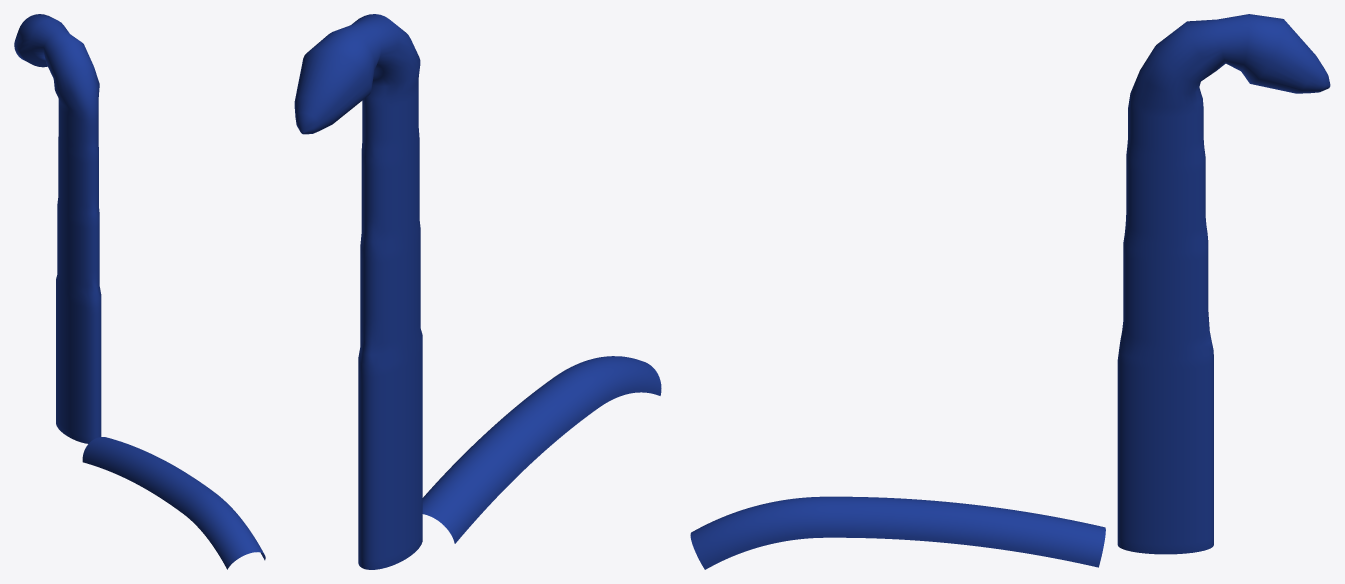
Rendered from nessie.glb.
3 renders of one model, left to right at view 1: azimuth 30°, elevation 25°; view 2: azimuth 150°, elevation 25°; view 3: azimuth 270°, elevation 25°, orthographic. The views are drawn at different scales.
Visible parts, largest first — view 1: Cylinder, Cylinder.001; view 2: Cylinder, Cylinder.001; view 3: Cylinder, Cylinder.001.
Part boxes in pixels (x1,y1,x2,y2): Cylinder: (14,14,101,443); Cylinder.001: (82,437,265,569); Cylinder: (294,14,422,569); Cylinder.001: (422,356,661,543); Cylinder: (1117,14,1330,554); Cylinder.001: (690,496,1105,569).
Size of the model in its own units: 15.02 by 123 by 132.
